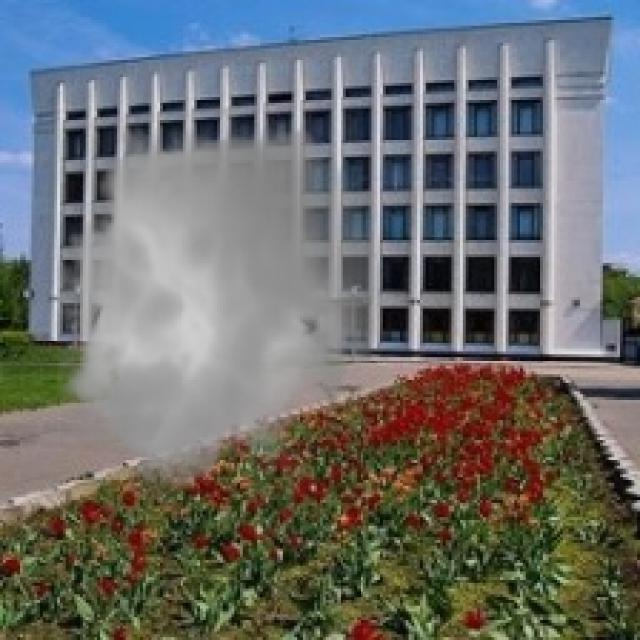Smoke: (42, 108, 394, 503)
